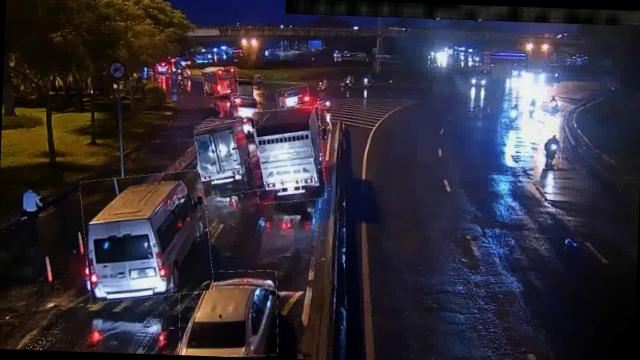Bike: (544, 133, 562, 167), (508, 103, 521, 124), (548, 93, 560, 114), (528, 96, 538, 120)
Bus: (78, 170, 214, 302), (202, 68, 238, 98)
Car: (177, 268, 280, 358), (276, 86, 310, 108), (231, 97, 262, 120)
Truck: (251, 106, 327, 204), (194, 118, 264, 198)
